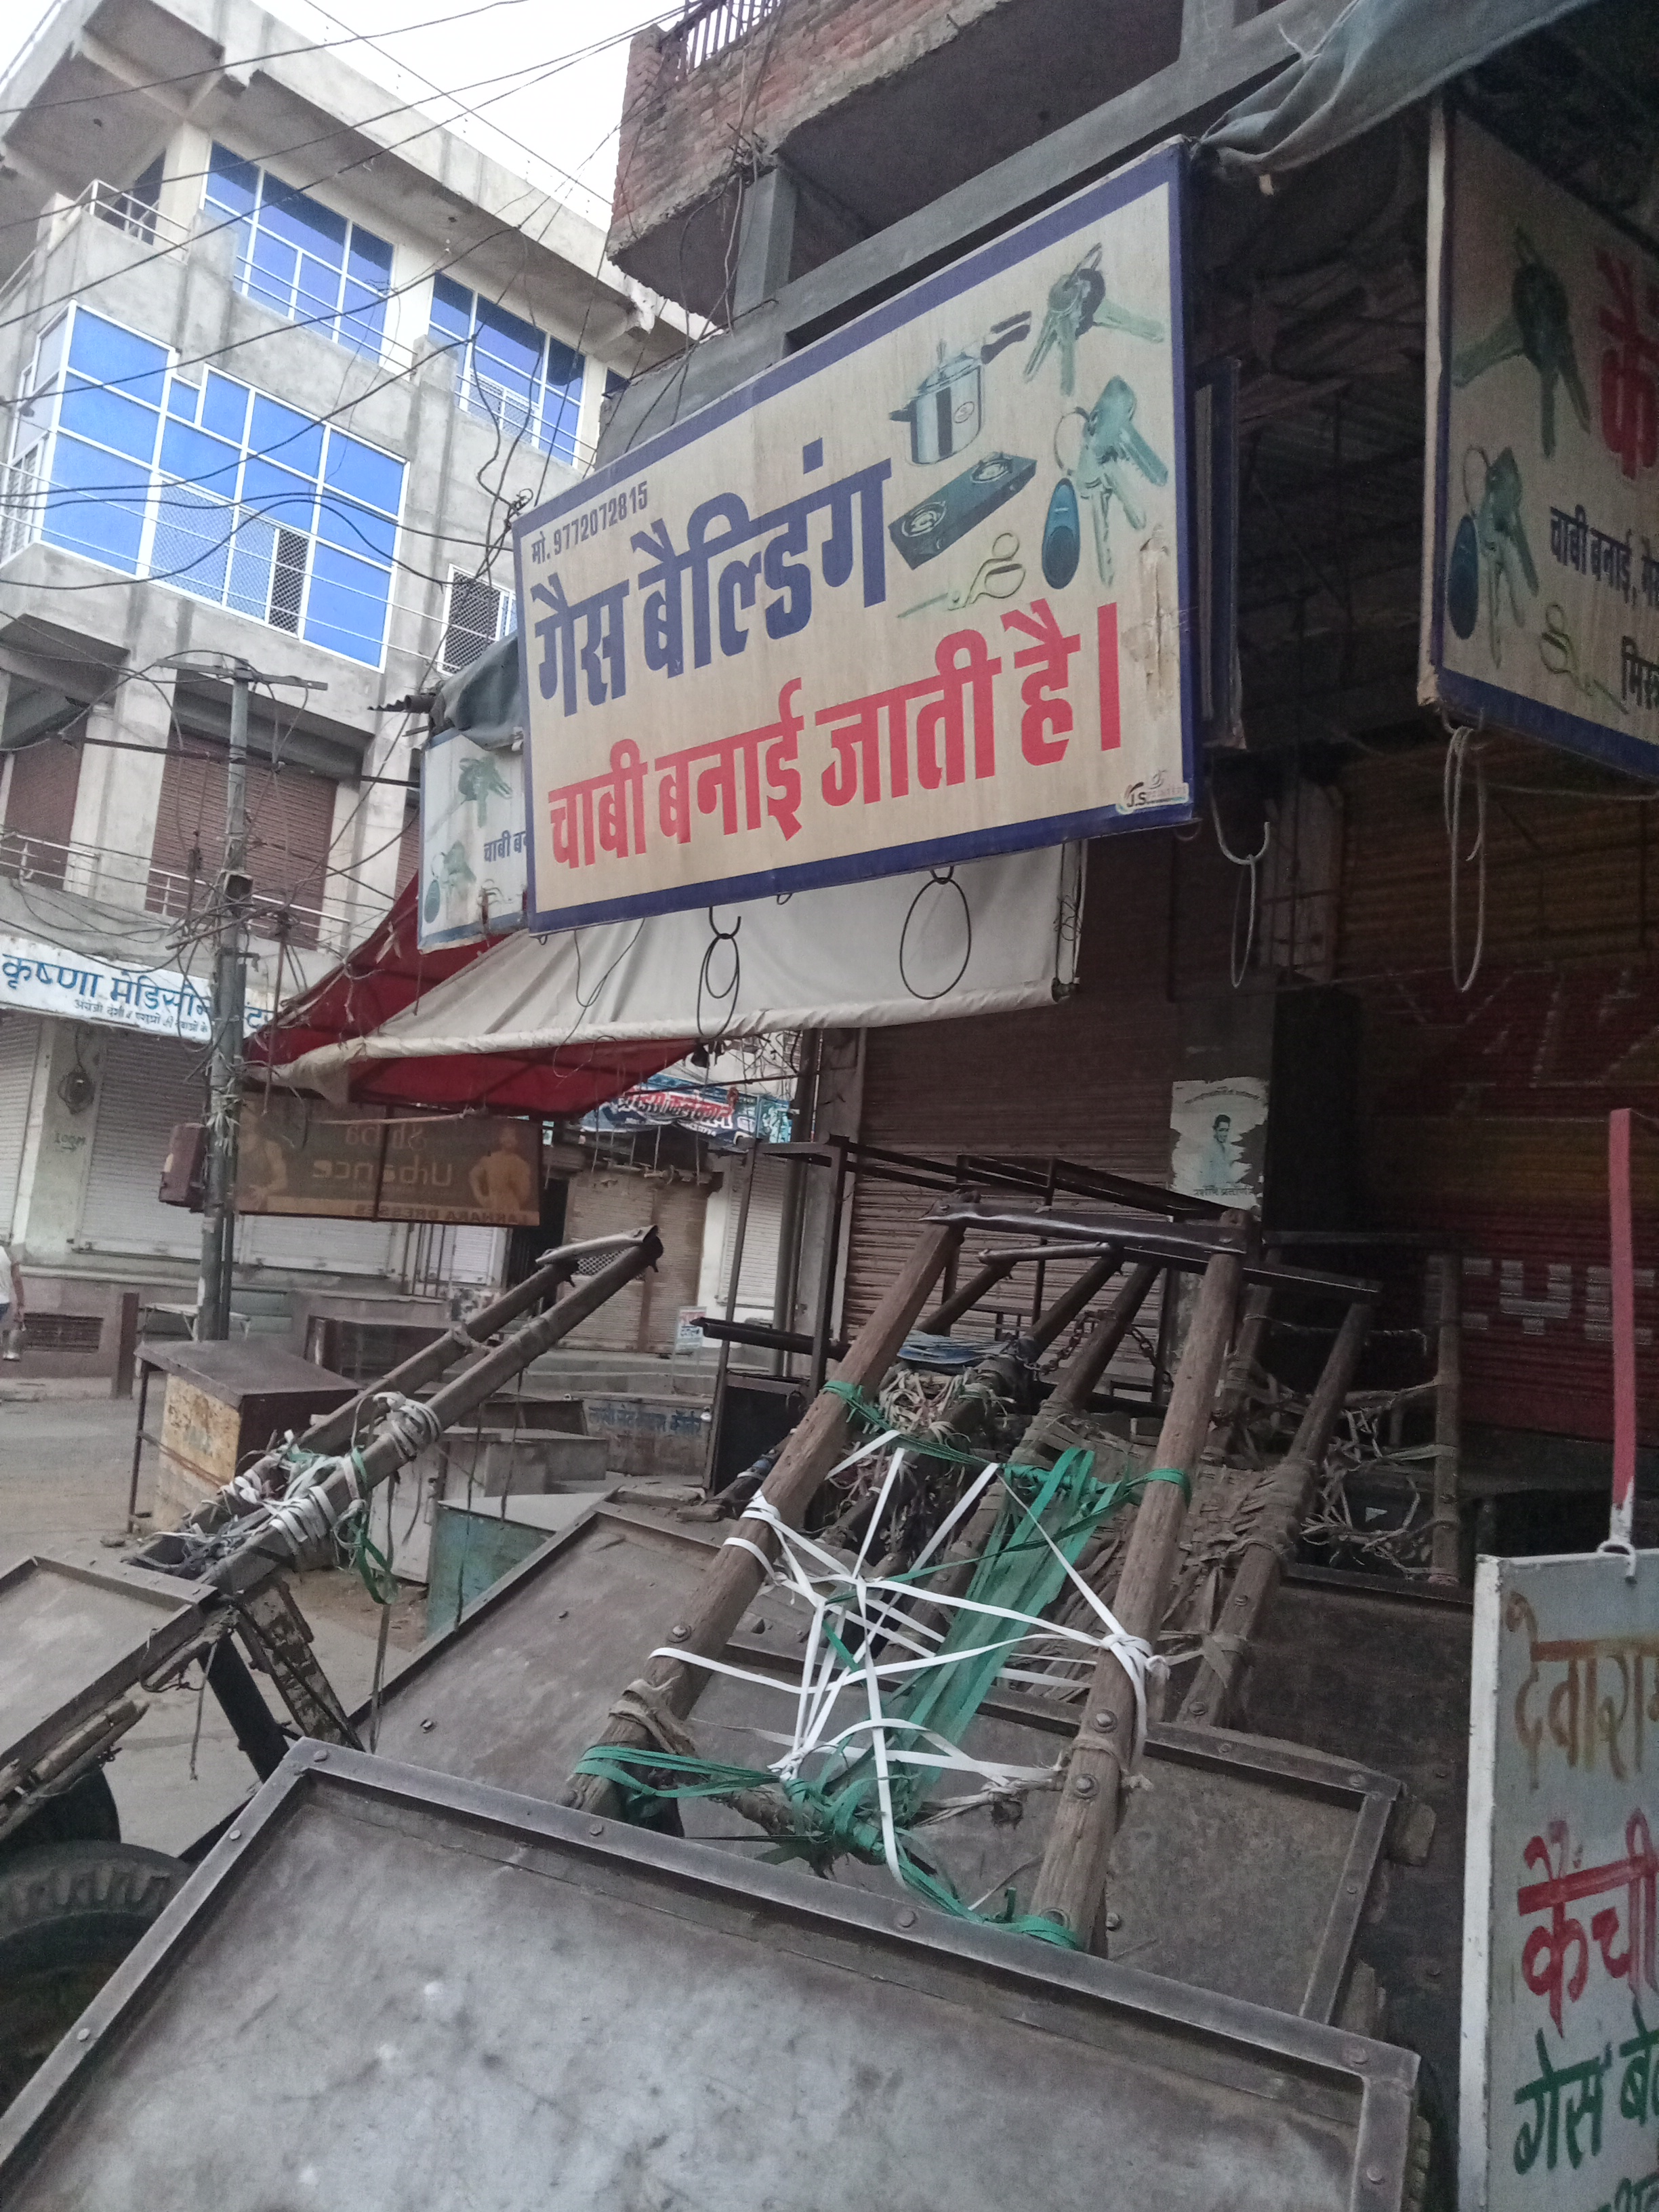text: (505, 138, 1227, 927), (1415, 89, 1659, 780), (1466, 1554, 1657, 2212), (0, 939, 293, 1052), (599, 1062, 753, 1155)
